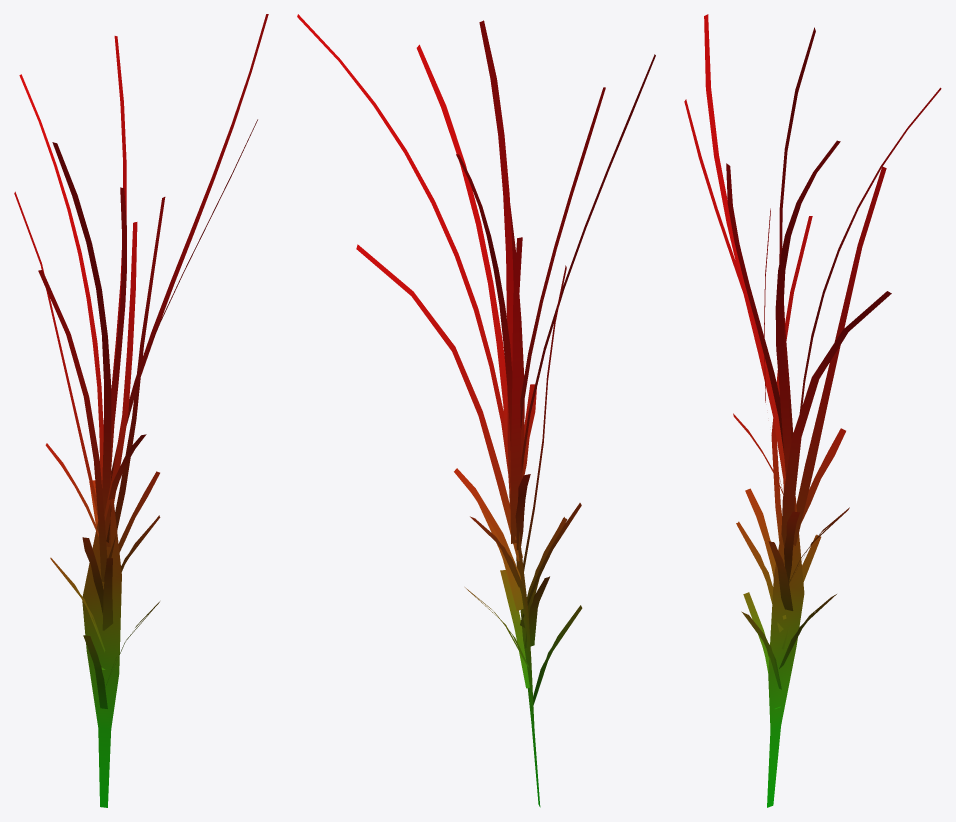
The model's file is Sea Wheatgrass_LOD1_Var14_ui2oagjia.fbx.
3 views of the same model, side by side, from view 1: azimuth 30°, elevation 25°; view 2: azimuth 150°, elevation 25°; view 3: azimuth 270°, elevation 25° (orthographic). The views are drawn at different scales.
Visible parts, largest first — view 1: _ipkf_Var14_LOD1; view 2: _ipkf_Var14_LOD1; view 3: _ipkf_Var14_LOD1.
Boxes of the visible parts, <box> form: _ipkf_Var14_LOD1: <box>14,14,268,807</box>; _ipkf_Var14_LOD1: <box>297,14,655,807</box>; _ipkf_Var14_LOD1: <box>684,14,941,807</box>.
Size of the model in its own units: 21.75 by 56.19 by 16.45.
